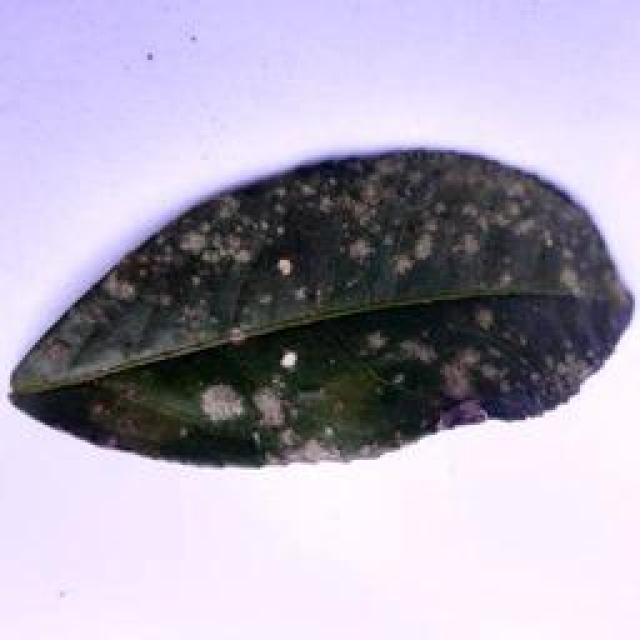Algal Leaf Spot: (0, 139, 626, 483)
